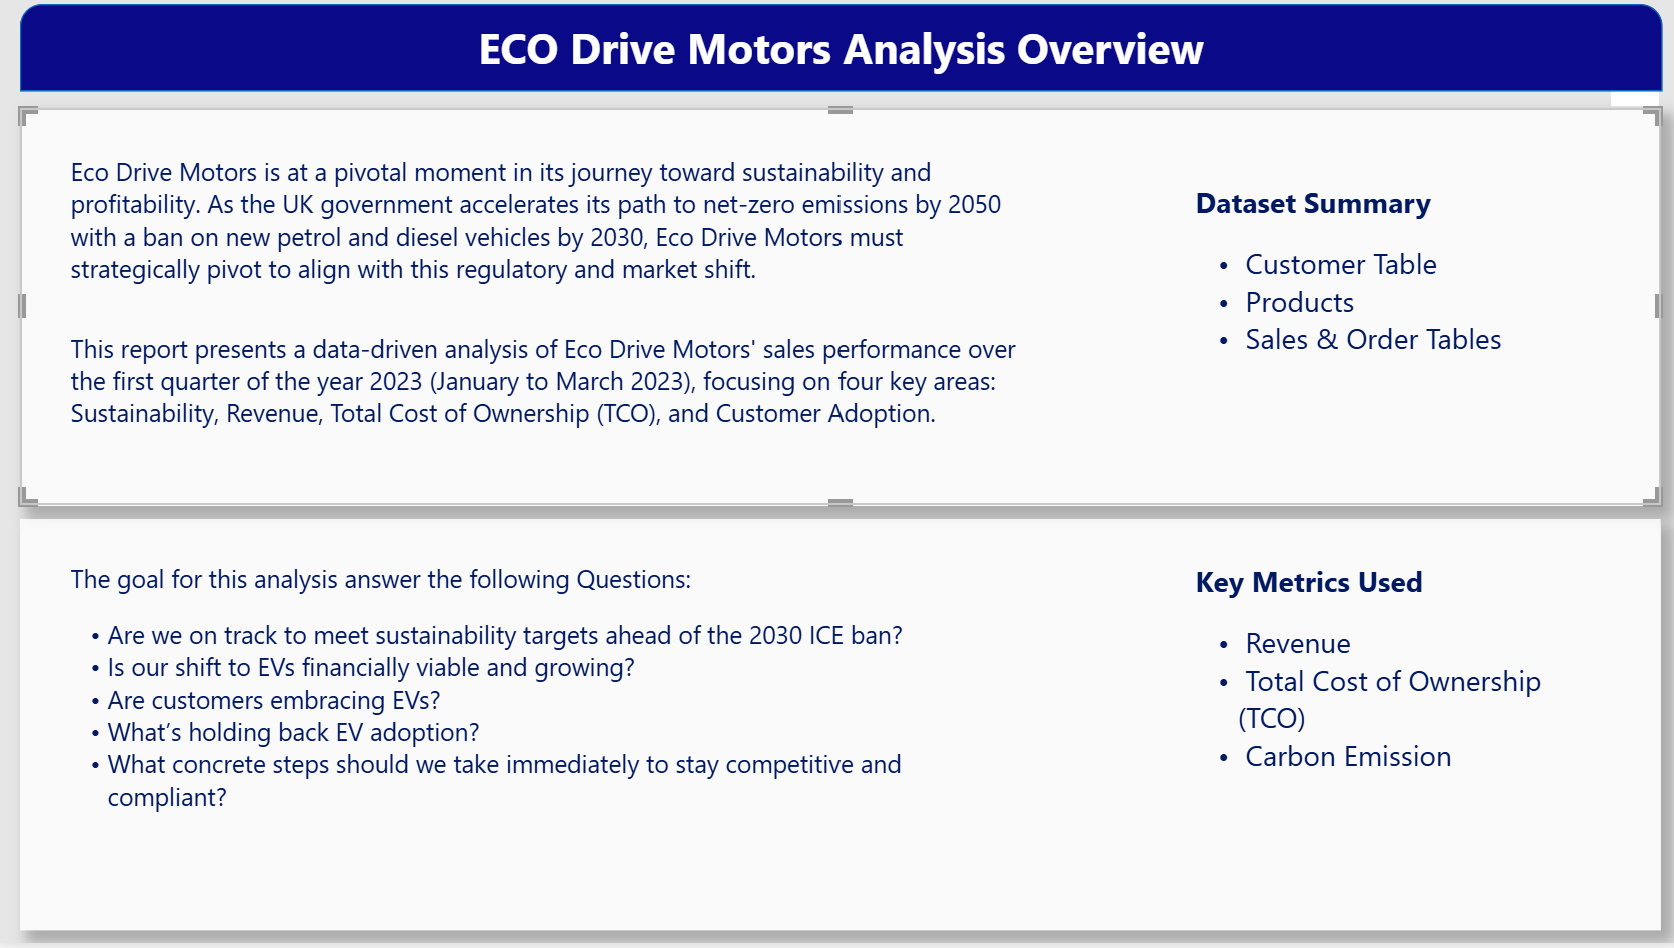

This screenshot's page, from the dashboard's own definition file:
{"tool":"powerbi","page":{"name":"Introduction","canvas":[1280,720],"ordinal":0},"visuals":[{"type":"shape","box":[18.9,87.8,1243.3,301.1],"z":0},{"type":"shape","box":[18.9,398.9,1243.3,312.2],"z":1000},{"type":"shape","box":[17.9,9,1244.8,66.3],"z":2000},{"type":"textbox","box":[149.6,15.2,980.6,53.7],"z":3000},{"type":"textbox","box":[52.2,118.9,727.8,240],"z":4000},{"type":"textbox","box":[51.7,426.7,708.3,225],"z":5000},{"type":"textbox","box":[903.3,426.7,298.9,191.1],"z":6000},{"type":"textbox","box":[903.3,138.9,298.9,156.7],"z":7000}]}

Visuals, with their boxes in screenshot pixels (x1, y1, x2, y2), scaled from the page's 1280x720 canvas onto the 1674x948 screenshot:
shape: bbox=(25, 116, 1651, 512)
shape: bbox=(25, 525, 1651, 936)
shape: bbox=(23, 12, 1651, 99)
textbox: bbox=(196, 20, 1478, 91)
textbox: bbox=(68, 157, 1020, 473)
textbox: bbox=(68, 562, 994, 858)
textbox: bbox=(1181, 562, 1572, 813)
textbox: bbox=(1181, 183, 1572, 389)
